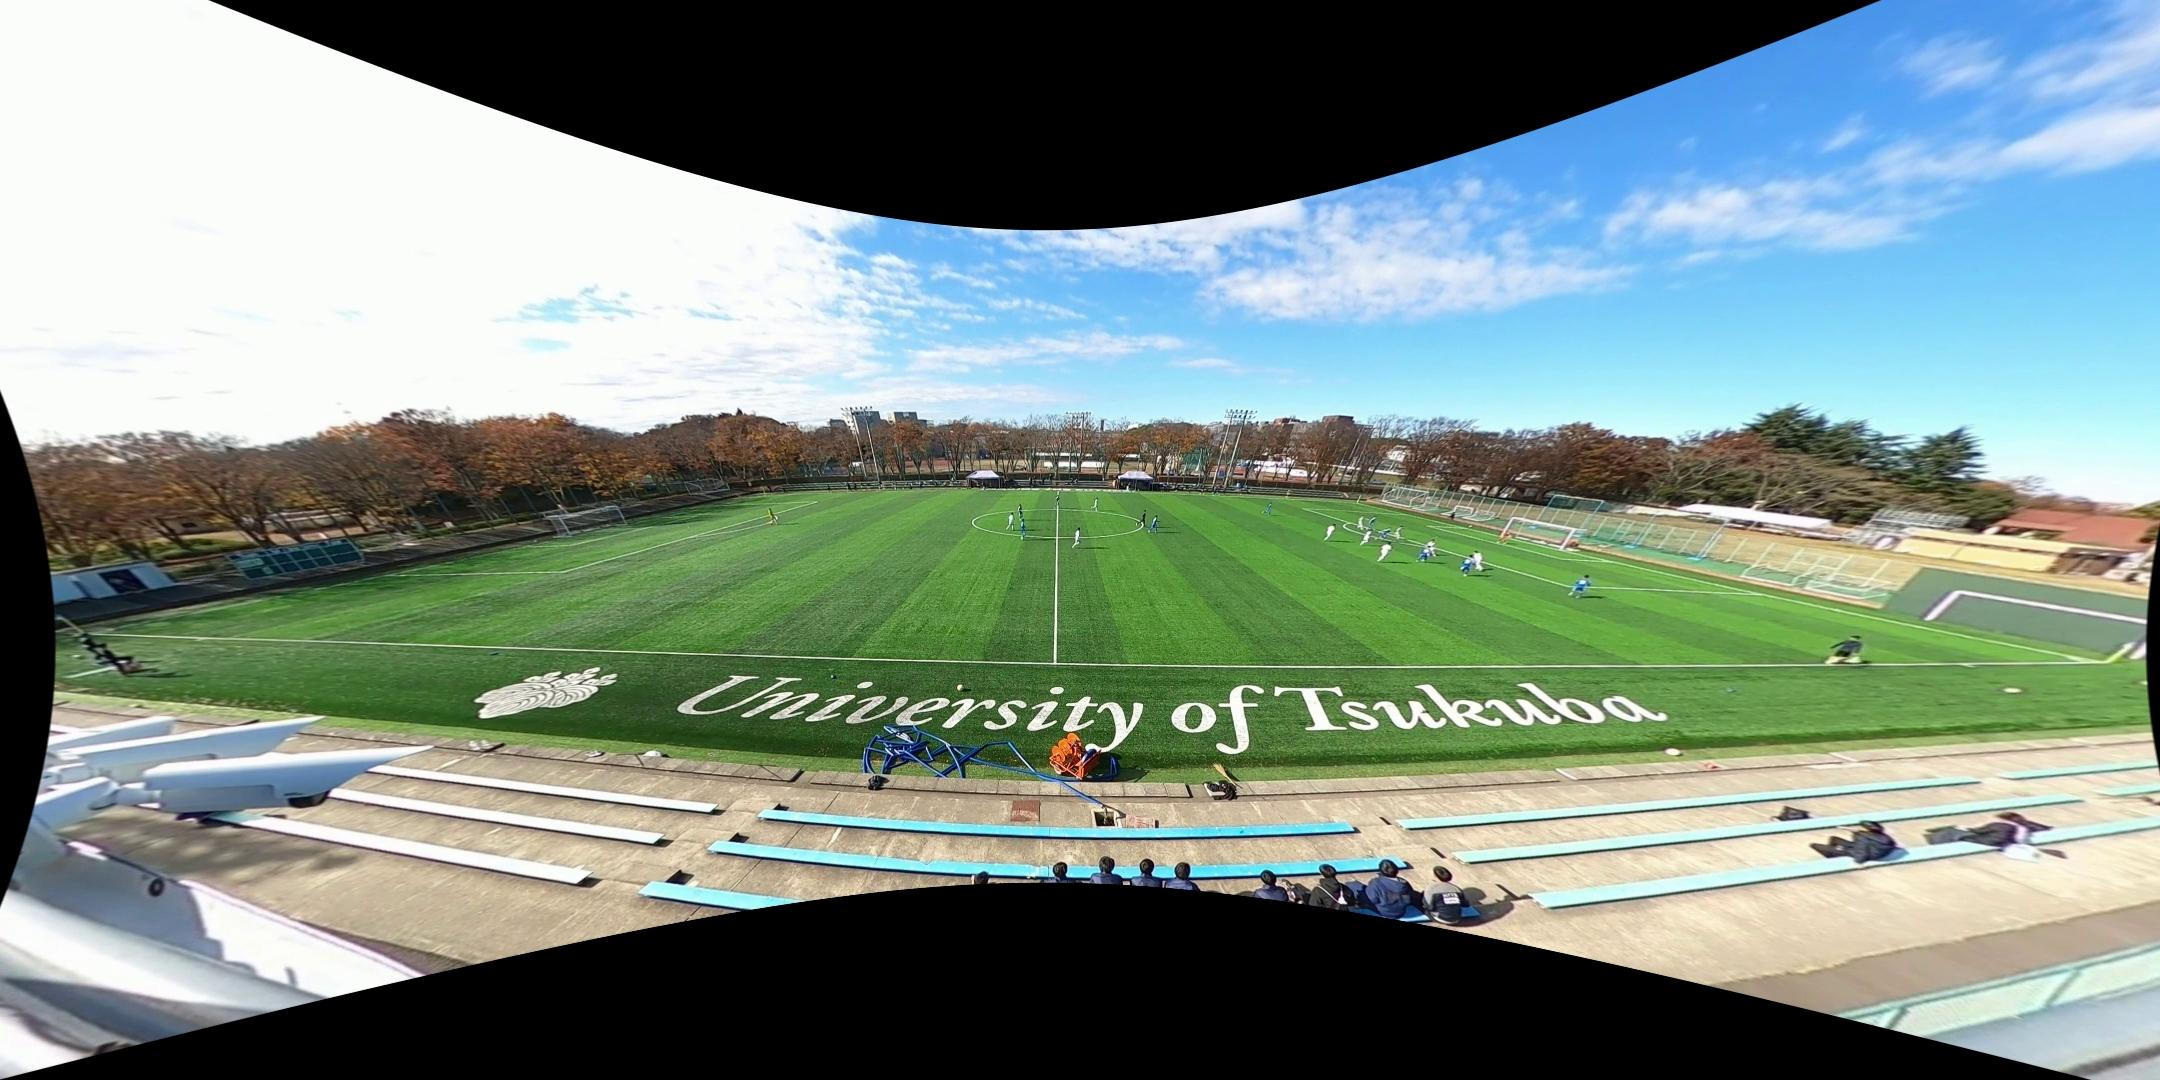person: (1823, 635, 1863, 663), (1569, 574, 1591, 599), (1469, 549, 1484, 573), (1460, 554, 1475, 577), (1377, 542, 1392, 562), (1423, 538, 1437, 558), (1496, 530, 1514, 545), (1415, 546, 1431, 562), (1148, 514, 1161, 533), (1378, 526, 1392, 542), (1360, 529, 1373, 546), (1323, 524, 1336, 541), (1072, 527, 1082, 549), (1135, 510, 1147, 528), (1393, 525, 1404, 543), (1260, 501, 1273, 516), (1006, 512, 1016, 531), (768, 507, 778, 525), (1020, 518, 1027, 541), (1367, 515, 1377, 531), (1017, 504, 1025, 522), (1357, 515, 1365, 531), (1091, 497, 1100, 511), (1053, 495, 1062, 509)
sports ball: (2001, 684, 2026, 696), (1665, 743, 1683, 758), (956, 683, 966, 691)
